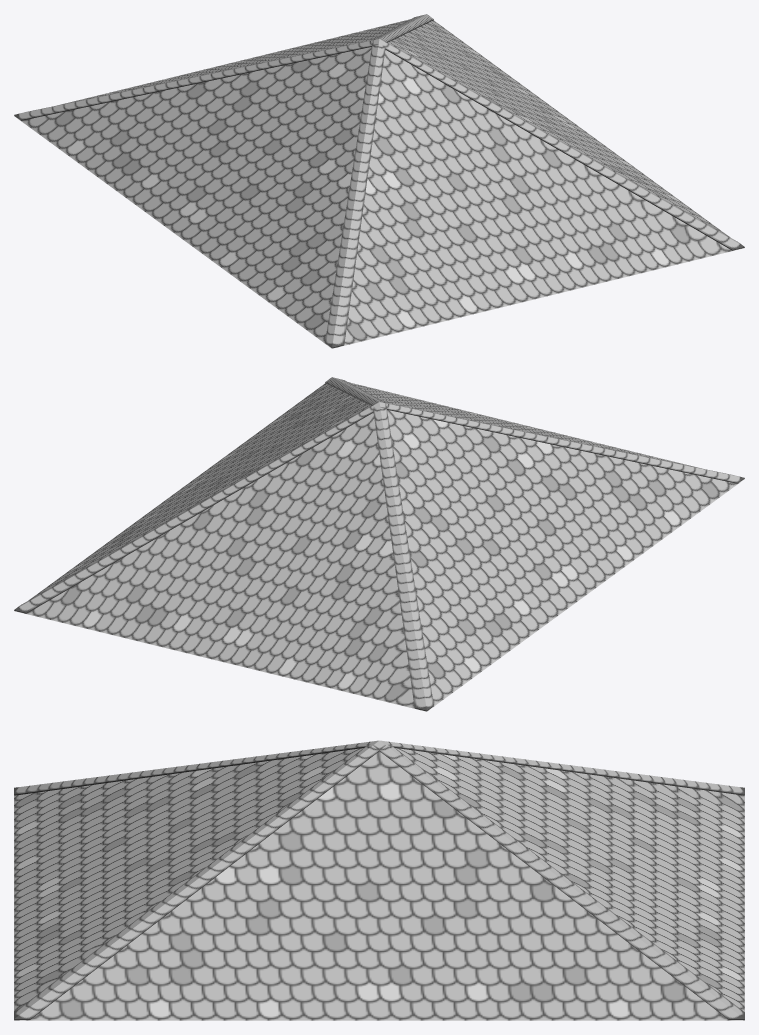
File: HouseRoof1.fbx
The picture shows the model from 3 angles, top to bottom: view 1: azimuth 30°, elevation 25°; view 2: azimuth 150°, elevation 25°; view 3: azimuth 270°, elevation 25°; orthographic projection. The views are drawn at different scales.
Parts seen in each view (by area): view 1: Roof1, Roof1.Detail.001, Roof1.Detail.002, Roof1.Detail.004, Roof1.Detail.003; view 2: Roof1, Roof1.Detail.004, Roof1.Detail.003, Roof1.Detail.001, Roof1.Detail.002; view 3: Roof1, Roof1.Detail.002, Roof1.Detail.003, Roof1.Detail.004, Roof1.Detail.001.
Boxes of the visible parts, bbox=[...] form: Roof1: bbox=[14, 19, 744, 348]; Roof1.Detail.001: bbox=[325, 39, 385, 348]; Roof1.Detail.002: bbox=[379, 38, 744, 250]; Roof1.Detail.004: bbox=[14, 40, 379, 120]; Roof1.Detail.003: bbox=[374, 14, 433, 42]; Roof1: bbox=[14, 382, 744, 711]; Roof1.Detail.004: bbox=[373, 402, 433, 711]; Roof1.Detail.003: bbox=[14, 401, 379, 613]; Roof1.Detail.001: bbox=[379, 402, 744, 483]; Roof1.Detail.002: bbox=[325, 377, 384, 405]; Roof1: bbox=[14, 748, 744, 1020]; Roof1.Detail.002: bbox=[14, 740, 385, 1020]; Roof1.Detail.003: bbox=[373, 740, 744, 1020]; Roof1.Detail.004: bbox=[380, 740, 744, 795]; Roof1.Detail.001: bbox=[14, 740, 377, 795].
Bounding box in the file's own units: 335 × 111 × 447.
1 material, 1 textured.
